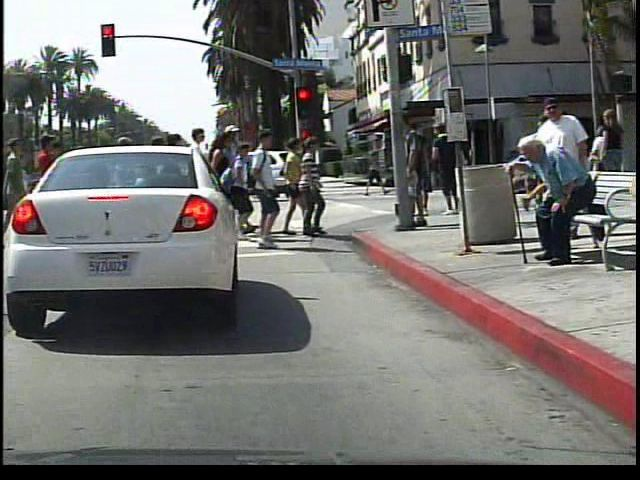person: (506, 135, 600, 270), (358, 140, 385, 196)
